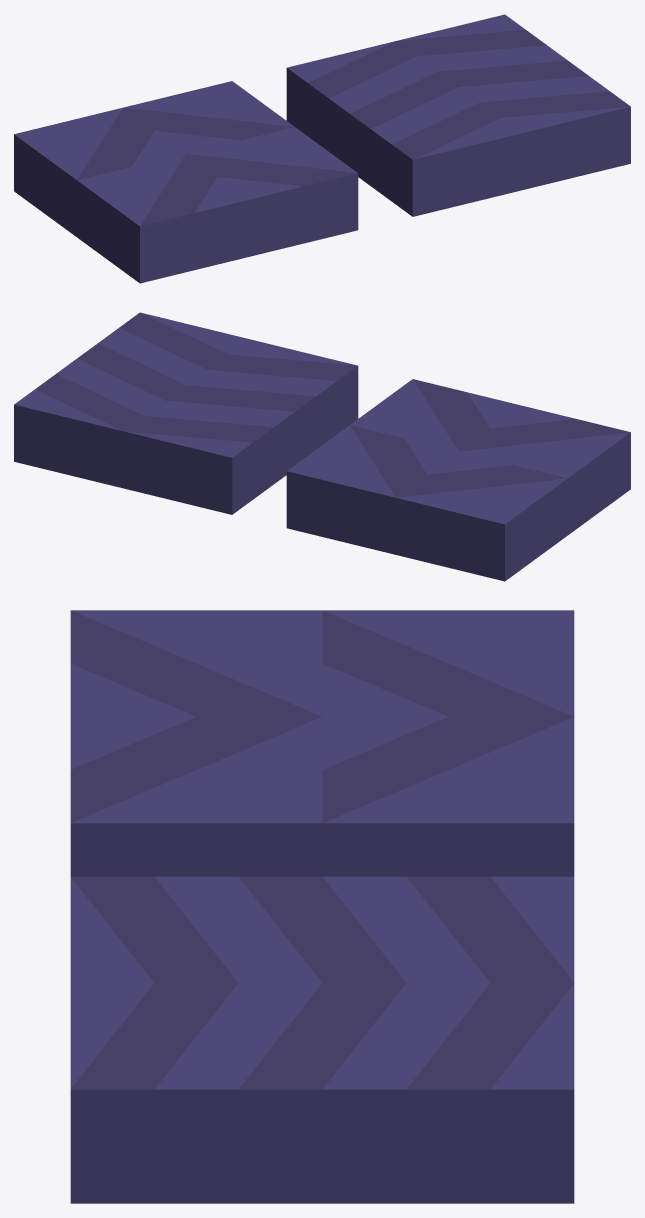
Rendered from platforms.fbx.
The picture shows the model from 3 angles, top to bottom: view 1: azimuth 30°, elevation 25°; view 2: azimuth 150°, elevation 25°; view 3: azimuth 270°, elevation 25°; orthographic projection. The views are drawn at different scales.
Visible parts, largest first — view 1: Cube, Cube.001; view 2: Cube, Cube.001; view 3: Cube.001, Cube.
Boxes of the visible parts, left/top/right/bottom form: Cube: left=14, top=81, right=358, bottom=283; Cube.001: left=286, top=14, right=630, bottom=216; Cube: left=286, top=379, right=630, bottom=581; Cube.001: left=14, top=312, right=358, bottom=514; Cube.001: left=70, top=876, right=574, bottom=1203; Cube: left=70, top=610, right=574, bottom=876.
Bounding box in the file's own units: 900 × 100 × 400.
